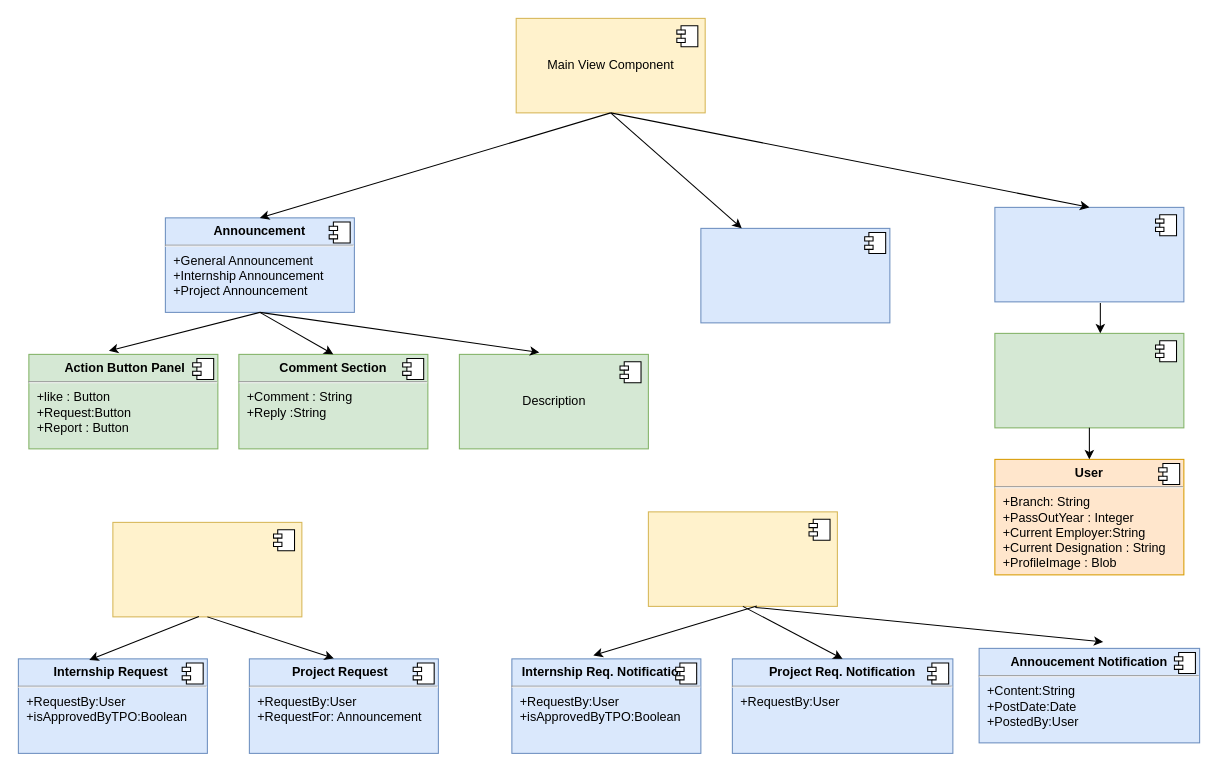
Image size: 1218x772. Some labels were removed from this diagram. Here are the shapes that lost their labels. From the top down, the centre of each, then its label:
point (1089, 254): Community
point (795, 275): D-Spaces +Creater:User +Moderator:User
point (1089, 380): Users List Component
point (207, 569): Request
point (742, 558): Notification
